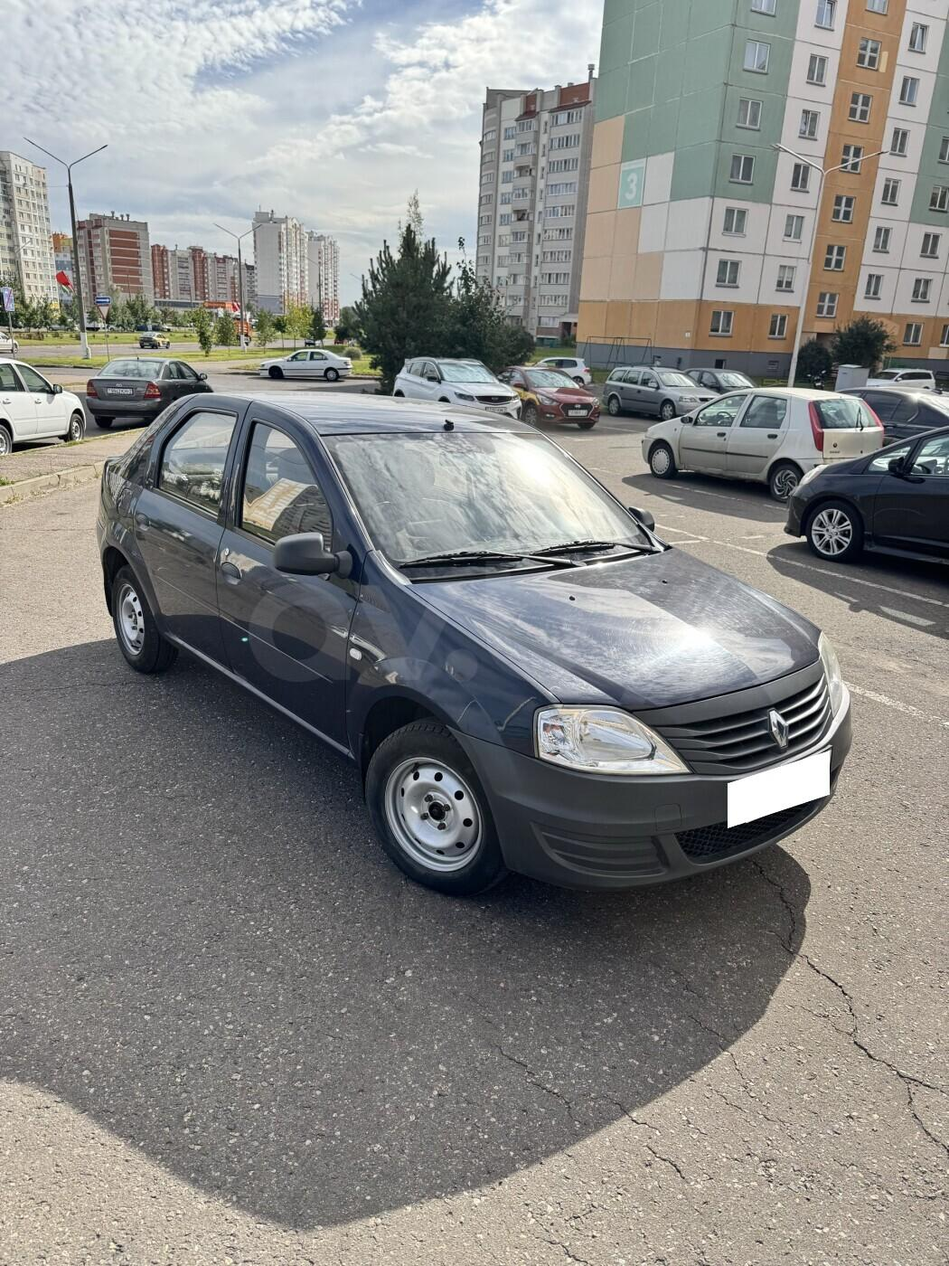Logan_2008-2015: (90, 382, 860, 904)
